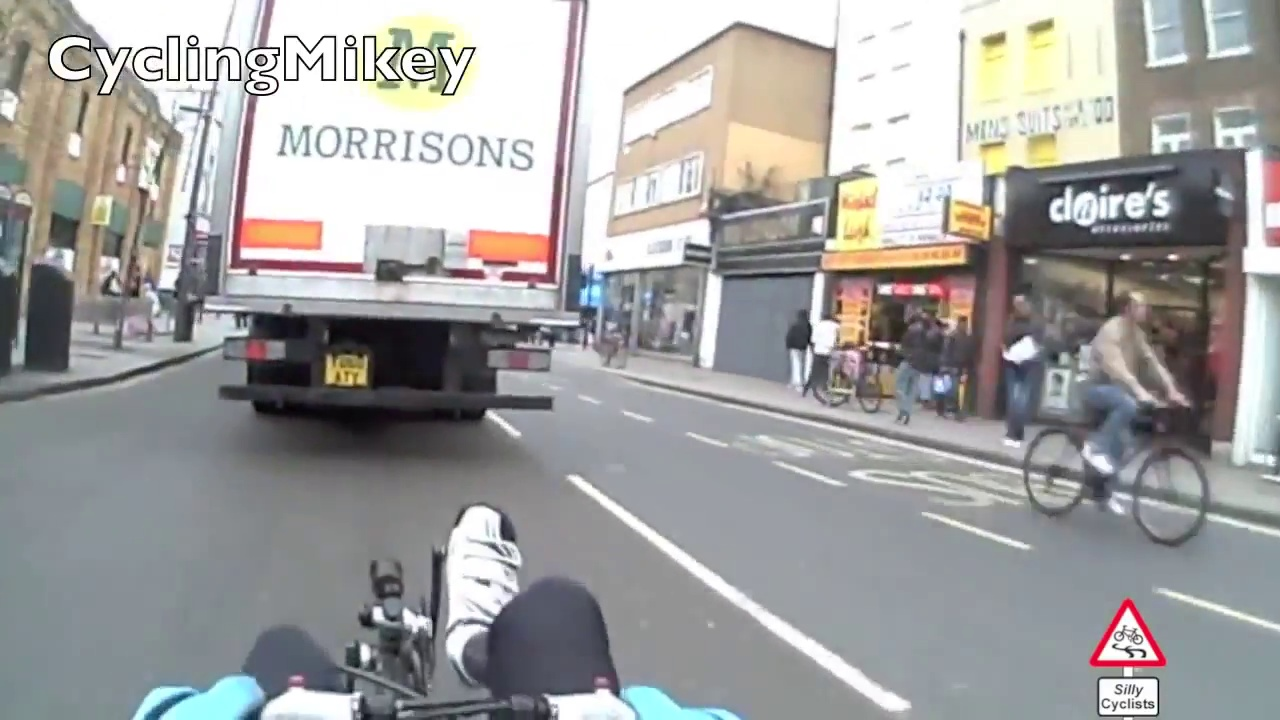cyclist_side: (1021, 291, 1217, 551)
